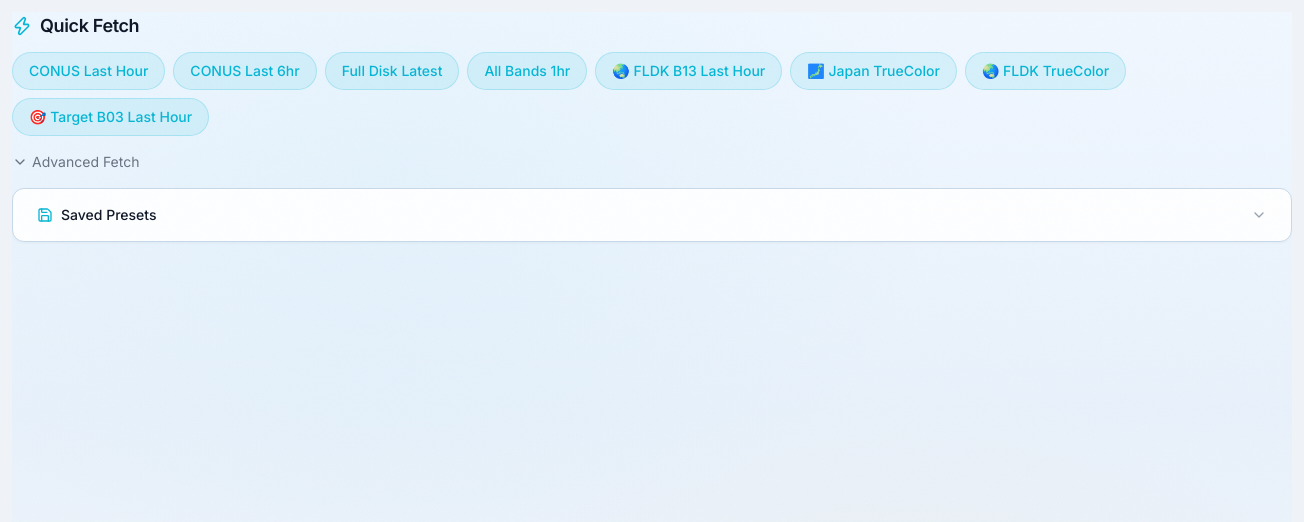
Test: FetchTab Wizard › renders step indicators
The image size is (1304, 522).
Click the button with test id "advanced-fetch-toggle".
click(76, 162)  # box [12,152,140,172]
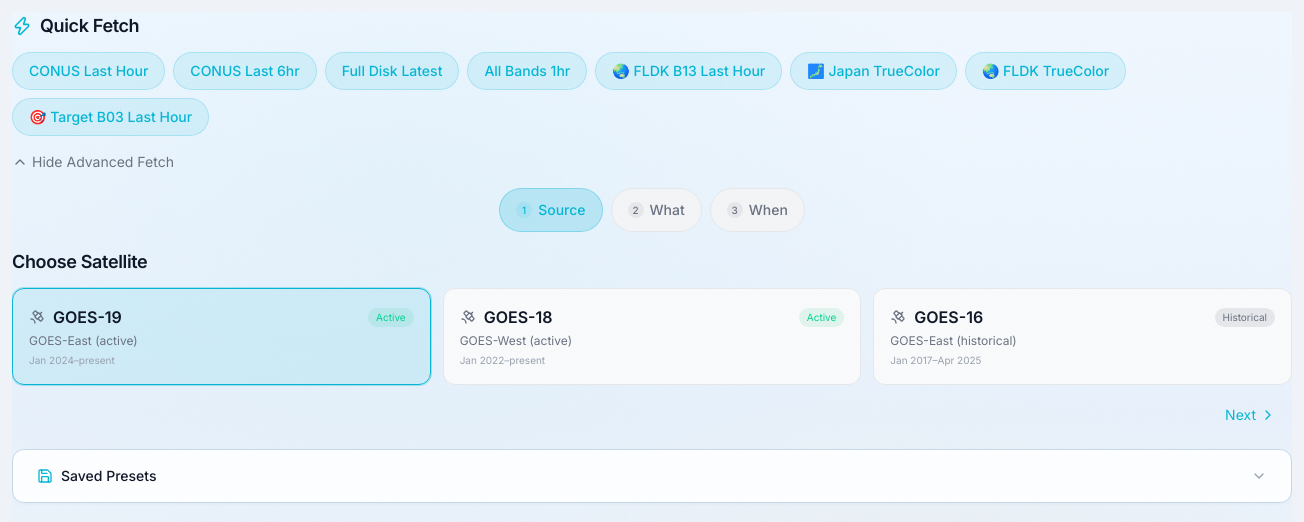
Now the button "1 Source" is shown, box [499,188,603,232]
Now the button "2 What" is shown, box [610,188,702,232]
Now the button "3 When" is shown, box [710,188,805,232]
